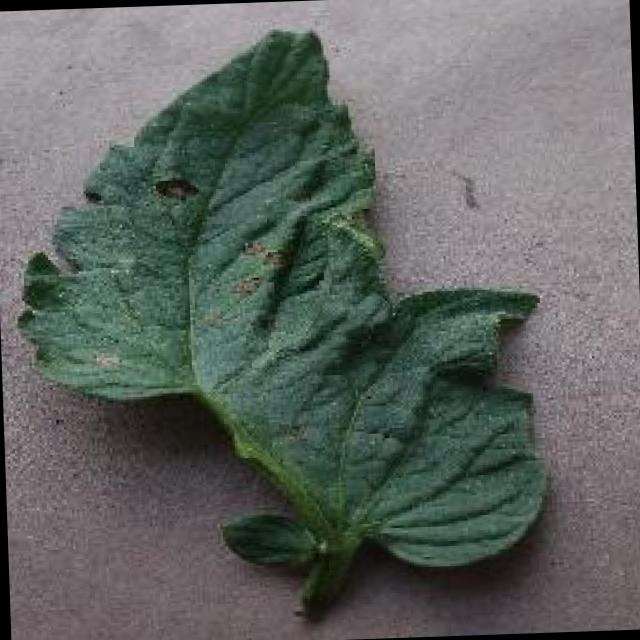Tomato_Early_Blight: (6, 143, 408, 390)
